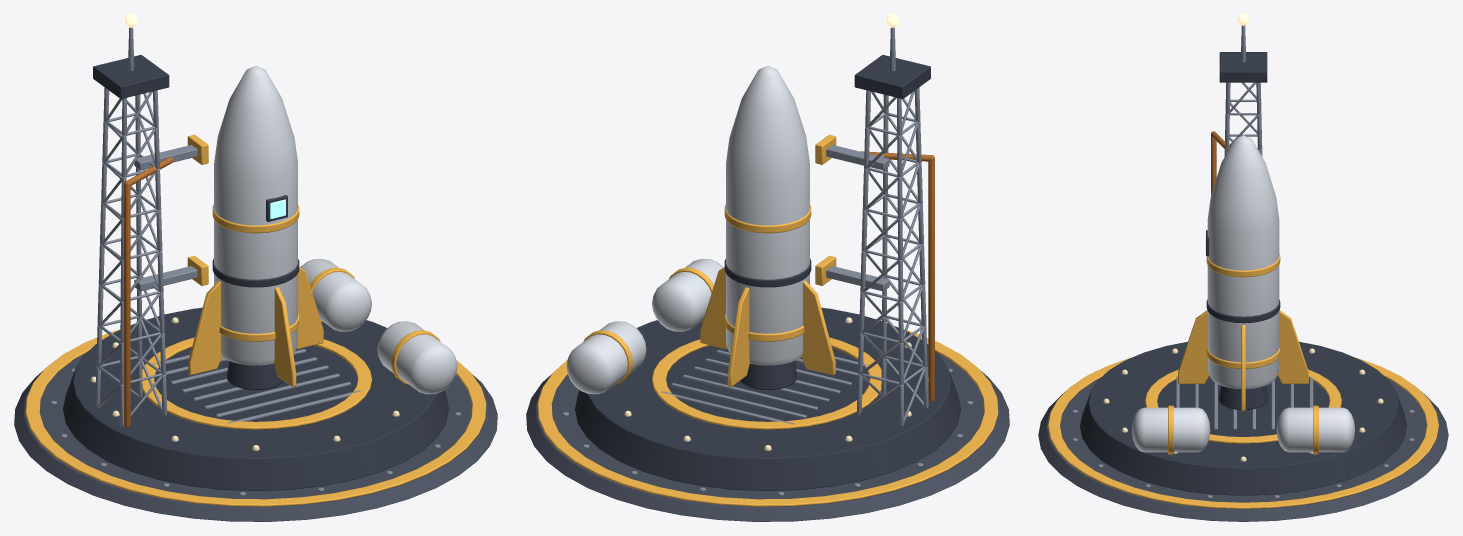
File: sell.fbx
3 views of the same model, side by side, from view 1: azimuth 30°, elevation 25°; view 2: azimuth 150°, elevation 25°; view 3: azimuth 270°, elevation 25° (orthographic). The views are drawn at different scales.
Visible parts, largest first — view 1: sell_Koerper, sell_Rakete; view 2: sell_Koerper, sell_Rakete; view 3: sell_Koerper, sell_Rakete.
Part boxes in pixels (box(x1,y1,x2,y2)): sell_Koerper: box(14, 14, 497, 521); sell_Rakete: box(188, 65, 323, 390); sell_Koerper: box(526, 14, 1009, 521); sell_Rakete: box(700, 65, 835, 390); sell_Koerper: box(1038, 14, 1448, 521); sell_Rakete: box(1178, 135, 1308, 410).
Bounding box in the file's own units: 6.89 × 6.84 × 6.89.
